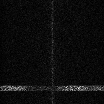wifi: (1, 86, 104, 90)
